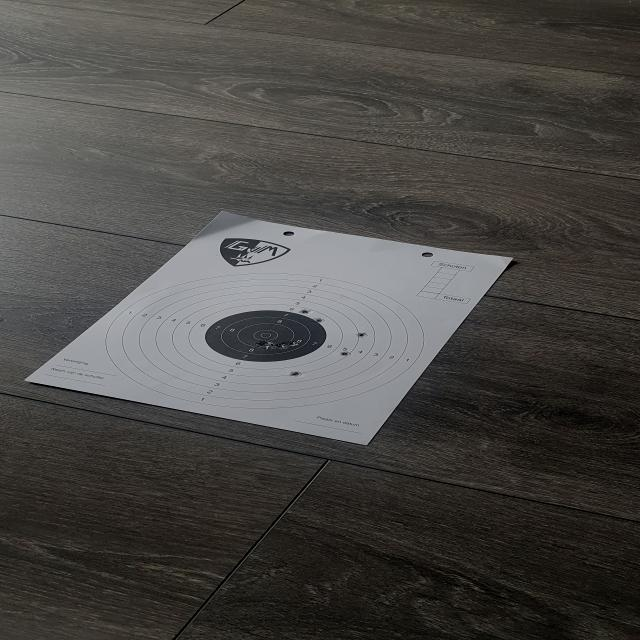5: (288, 371, 304, 377), (356, 332, 370, 338), (339, 351, 352, 357)
6: (298, 308, 312, 315)
7: (309, 317, 328, 324)
9: (256, 340, 275, 349), (285, 341, 299, 346), (274, 344, 287, 349)
Target: (104, 272, 425, 409)
black_contour: (204, 310, 328, 362)
